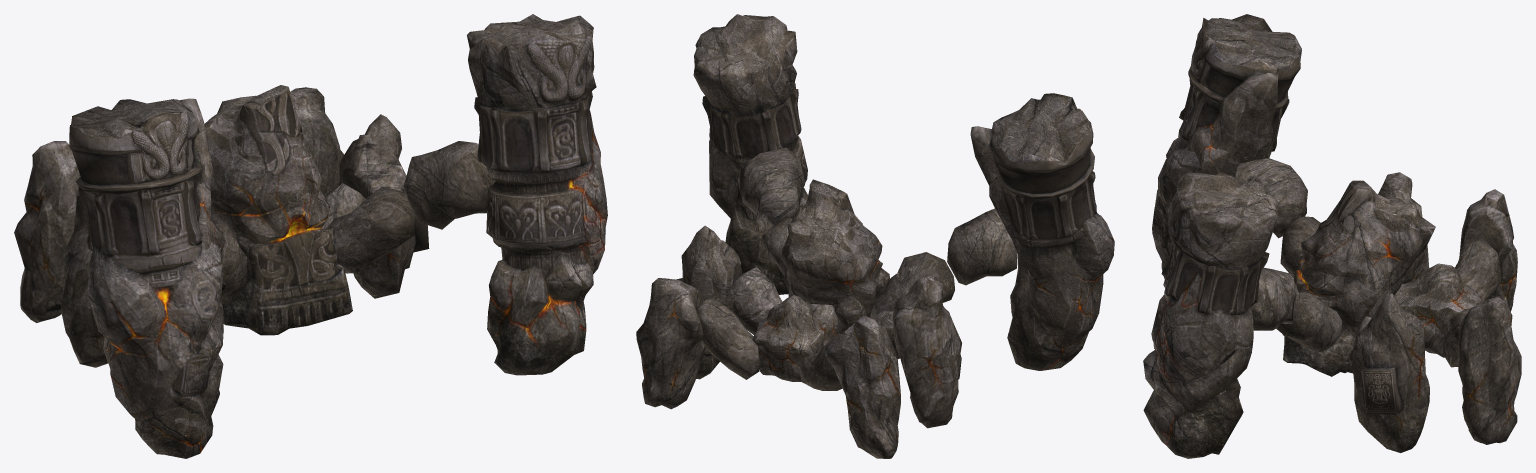
The model's file is foundation-stone-atronach-overview-v1.glb.
3 views of the same model, side by side, from view 1: azimuth 30°, elevation 25°; view 2: azimuth 150°, elevation 25°; view 3: azimuth 270°, elevation 25° (orthographic). The views are drawn at different scales.
Parts seen in each view (by area): view 1: foundation-stone-atronach; view 2: foundation-stone-atronach; view 3: foundation-stone-atronach.
Part boxes in pixels (x1=…): foundation-stone-atronach: x1=14, y1=14, x2=607, y2=458; foundation-stone-atronach: x1=636, y1=14, x2=1114, y2=458; foundation-stone-atronach: x1=1143, y1=14, x2=1521, y2=458.
Bounding box in the file's own units: 3.01 × 2 × 2.37.
Materials: 1 (1 with a texture image).
